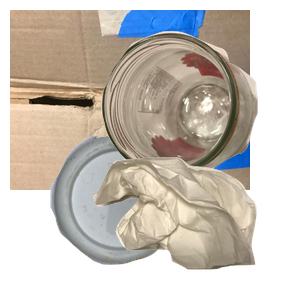cardboard: (10, 10, 250, 190)
glass: (98, 29, 300, 198)
plastic: (48, 132, 224, 300)
trash: (90, 155, 300, 300)
